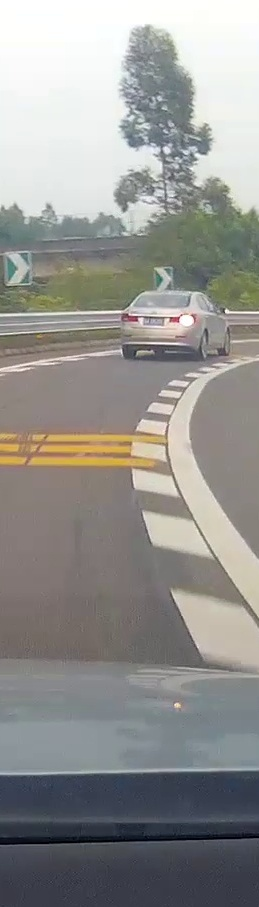L_light: (121, 312, 139, 322)
R_light: (169, 314, 195, 325)
T_light: (159, 293, 171, 296)
day-right: (119, 291, 198, 358)
